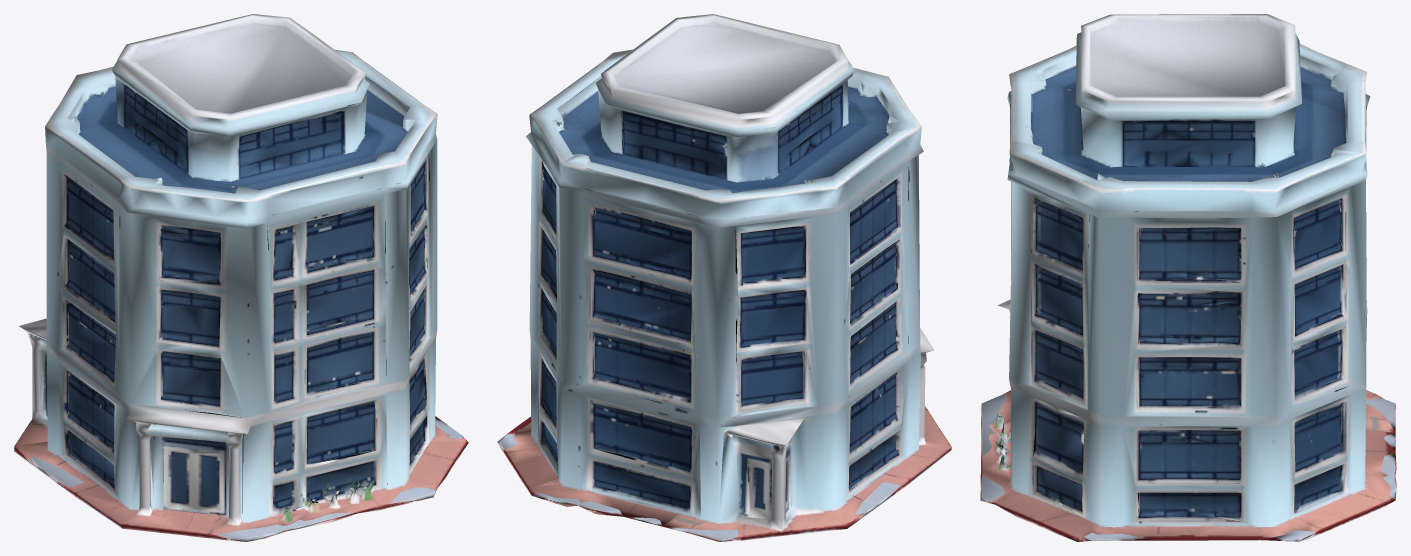
File: tower.fbx
3 views of the same model, side by side, from view 1: azimuth 30°, elevation 25°; view 2: azimuth 150°, elevation 25°; view 3: azimuth 270°, elevation 25° (orthographic). The views are drawn at different scales.
Visible parts, largest first — view 1: Major_tower; view 2: Major_tower; view 3: Major_tower.
Part boxes in pixels (x1=…): Major_tower: x1=14, y1=14, x2=468, y2=541; Major_tower: x1=497, y1=14, x2=951, y2=541; Major_tower: x1=980, y1=14, x2=1396, y2=541.
Size of the model in its own units: 4.4 by 4.58 by 4.33.
Materials: 1 (1 with a texture image).
